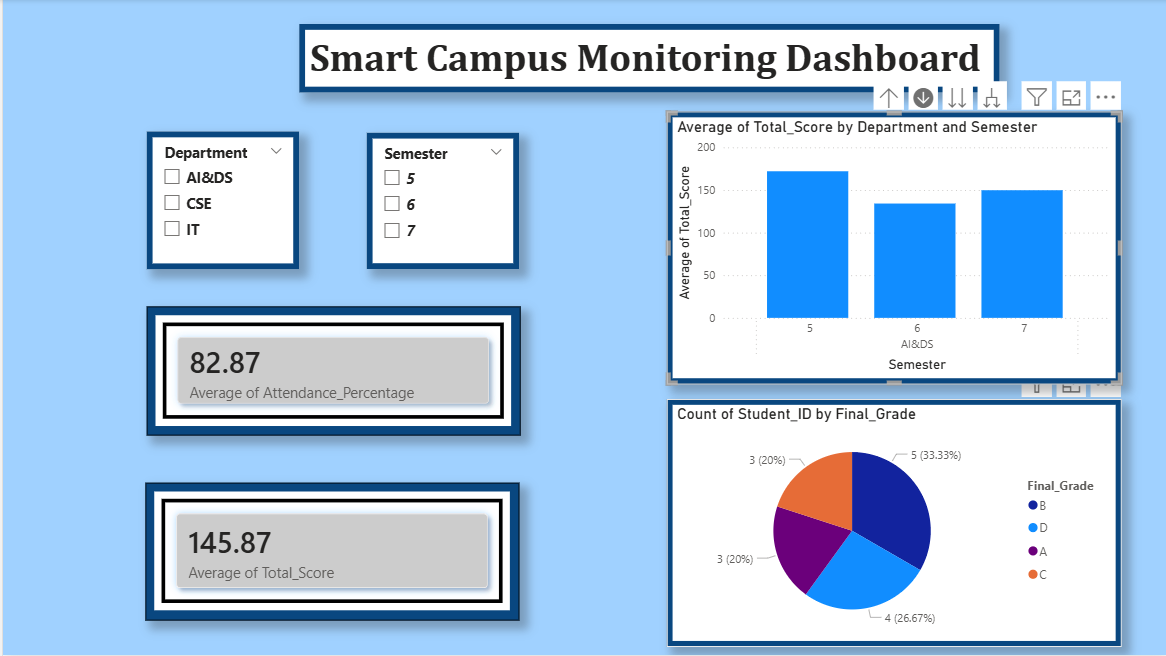

The dashboard page shown, as its layout file describes it:
{"tool":"powerbi","page":{"name":"Page 1","canvas":[1280,720],"ordinal":0},"visuals":[{"type":"textbox","box":[325.2,27.4,768.4,75.5],"z":0},{"type":"cardVisual","fields":{"Data":["Avg(5 student_performance.Attendance_Percentage)"]},"box":[157.8,337.6,410.3,141.3],"z":1000},{"type":"cardVisual","fields":{"Data":["Avg(5 student_performance.Total_Score)"]},"box":[156.4,531,410.3,150.9],"z":2000},{"type":"slicer","fields":{"Values":["5 student_performance.Department"]},"box":[157.8,145.5,167.4,150.9],"z":3000},{"type":"slicer","fields":{"Values":["5 student_performance.Semester"]},"box":[399.3,146.8,167.4,149.6],"z":4000},{"type":"clusteredColumnChart","fields":{"Y":["Avg(5 student_performance.Total_Score)"],"Category":["5 student_performance.Department","5 student_performance.Semester","5 student_performance.Subject"]},"box":[728.6,123.5,499.5,299.1],"z":5000},{"type":"pieChart","fields":{"Category":["5 student_performance.Final_Grade"],"Y":["CountNonNull(5 student_performance.Student_ID)"]},"box":[728.6,439.1,499.5,271.7],"z":6000}]}

Visuals, with their boxes in screenshot pixels (x1, y1, x2, y2), scaled from the page's 1280x720 canvas onto the 1166x656 screenshot:
textbox: bbox(296, 25, 996, 94)
cardVisual - Avg(5 student_performance.Attendance_Percentage): bbox(144, 308, 518, 436)
cardVisual - Avg(5 student_performance.Total_Score): bbox(142, 484, 516, 621)
slicer - 5 student_performance.Department: bbox(144, 133, 296, 270)
slicer - 5 student_performance.Semester: bbox(364, 134, 516, 270)
clusteredColumnChart - Avg(5 student_performance.Total_Score) x 5 student_performance.Department: bbox(664, 113, 1119, 385)
pieChart - 5 student_performance.Final_Grade x CountNonNull(5 student_performance.Student_ID): bbox(664, 400, 1119, 648)
